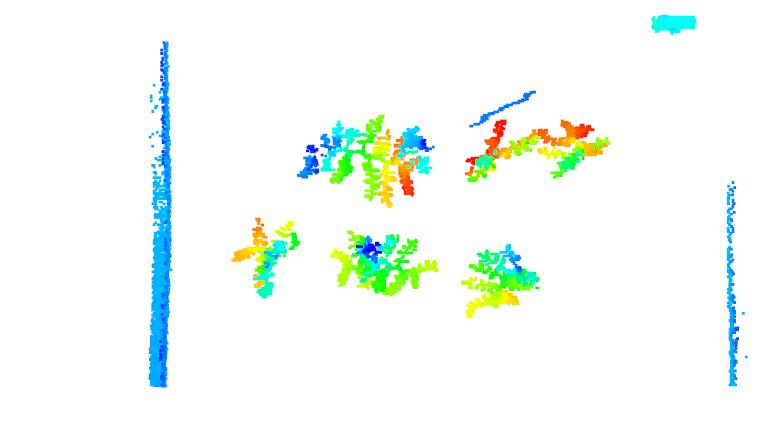chickpea: (302, 115, 415, 208), (461, 245, 542, 319), (229, 220, 300, 297), (464, 116, 537, 184), (536, 115, 611, 177), (330, 226, 399, 293), (380, 237, 440, 297), (399, 124, 452, 180)
